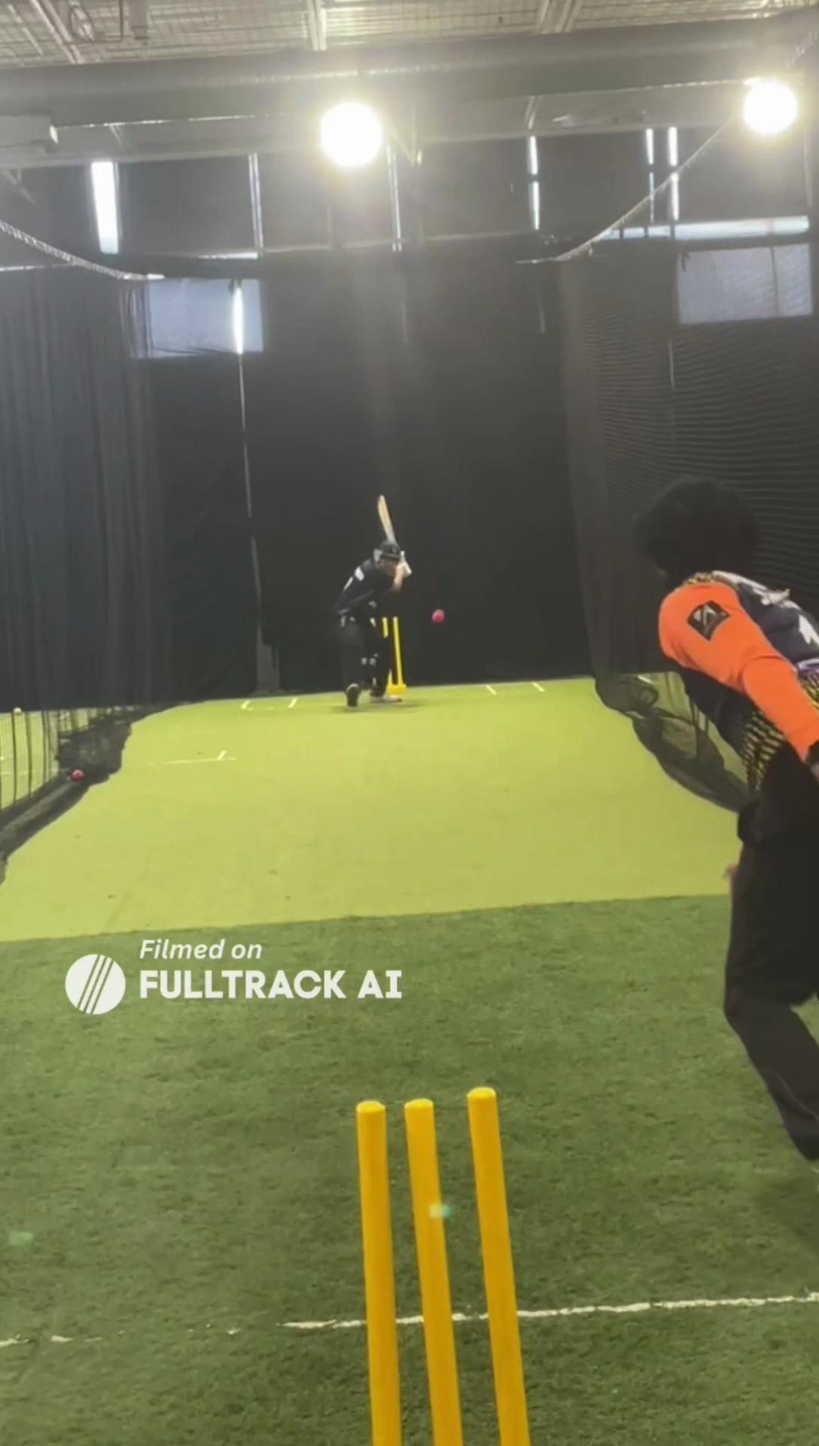ball: (428, 606, 448, 626)
